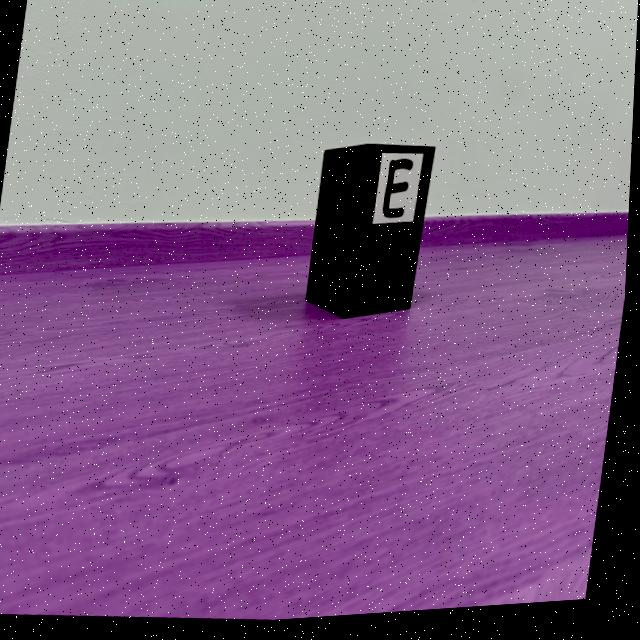E: (384, 164, 415, 223)
